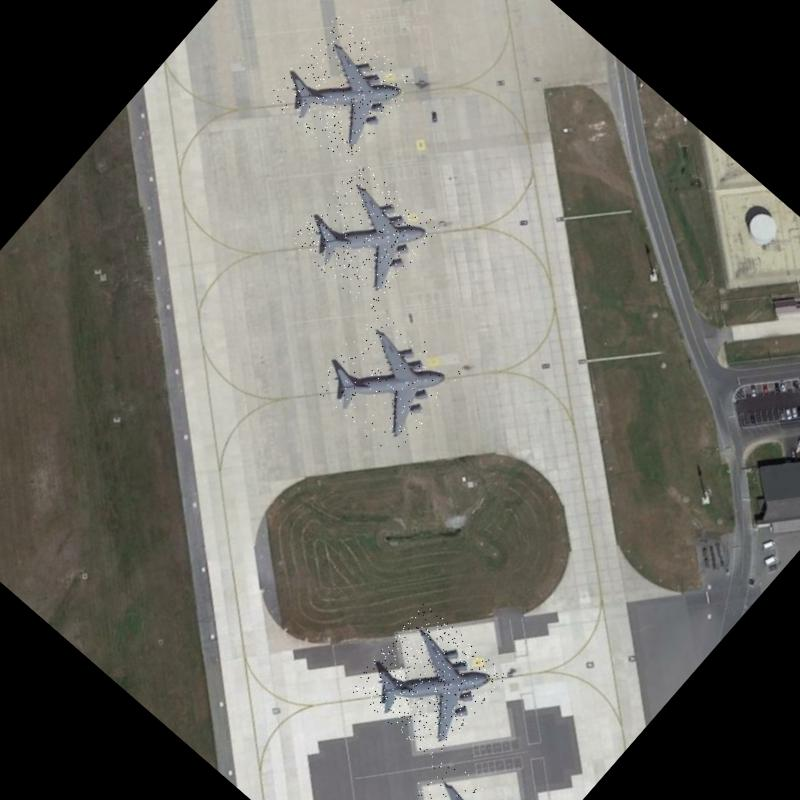A3: (348, 602, 508, 762), (308, 303, 464, 459), (264, 14, 418, 168), (288, 158, 442, 312), (366, 752, 536, 800)
